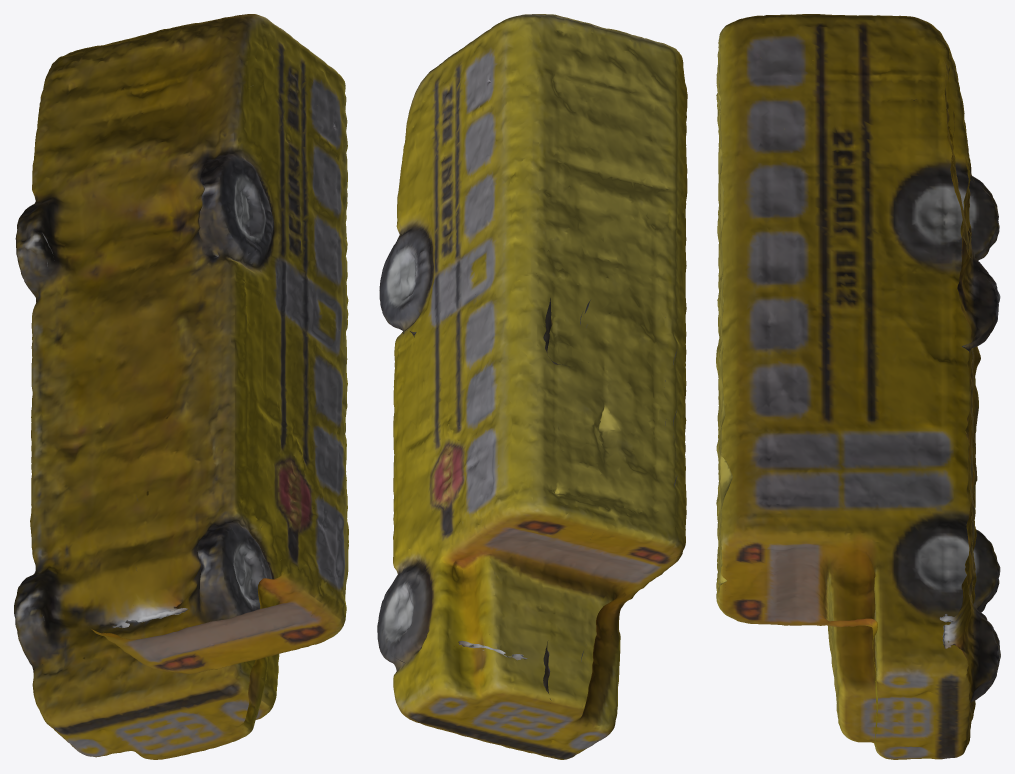
The model's file is school_bus1.glb.
The picture shows the model from 3 angles, left to right: view 1: azimuth 30°, elevation 25°; view 2: azimuth 150°, elevation 25°; view 3: azimuth 270°, elevation 25°; orthographic projection. The views are drawn at different scales.
Size of the model in its own units: 0.3268 by 1 by 0.3877.
